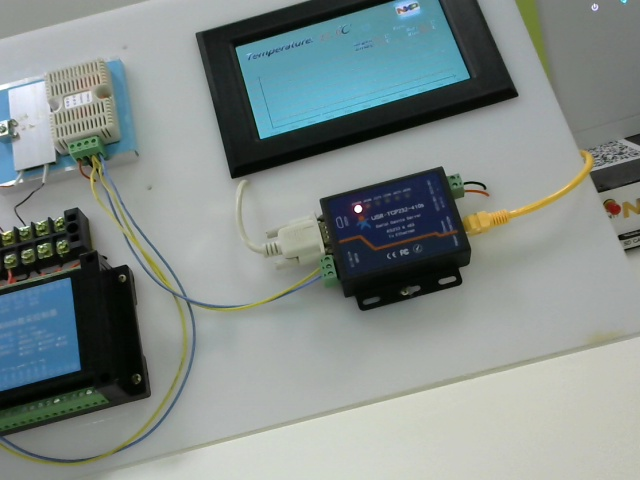modbus bridge: (315, 166, 470, 318)
termperature: (46, 61, 123, 161)
